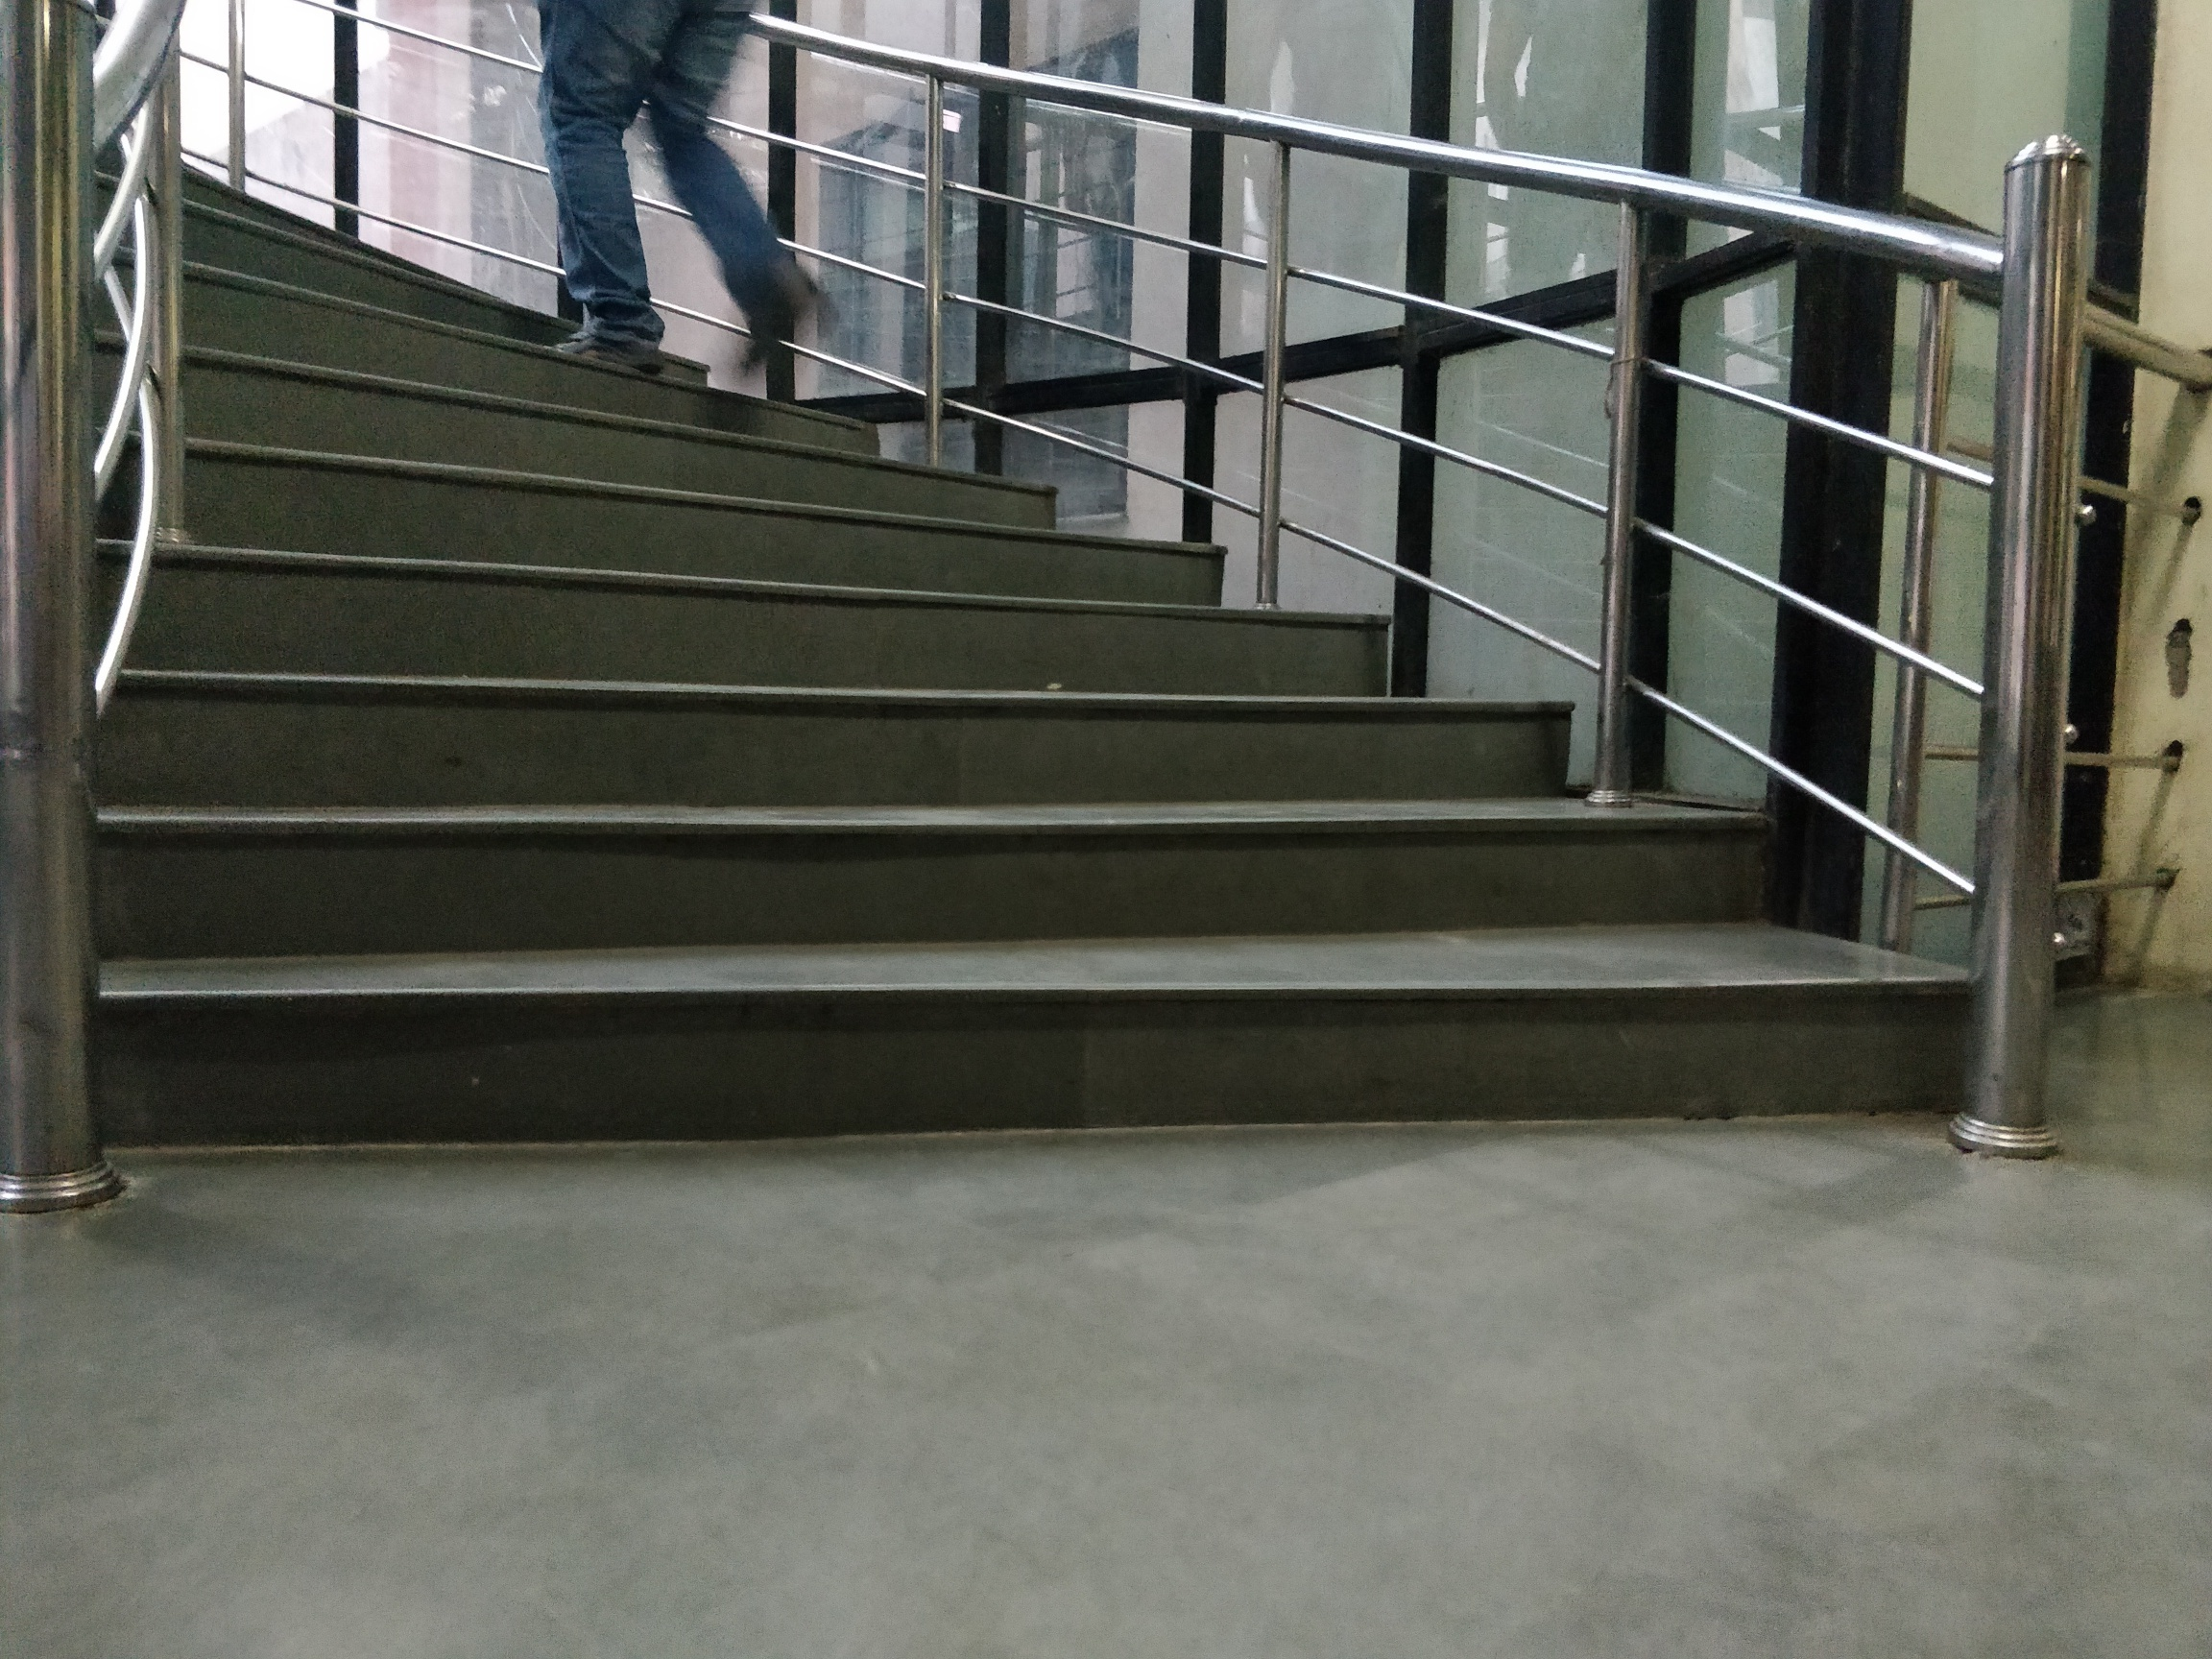stairs_up: (49, 193, 1958, 1263)
